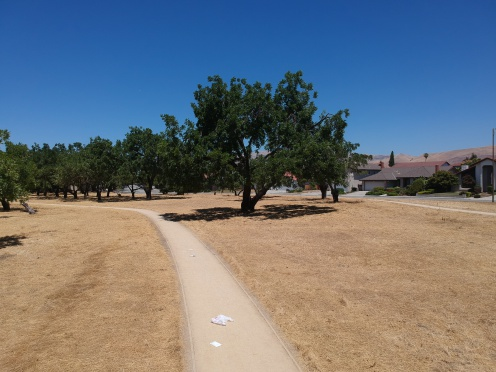plastic bag: (207, 311, 236, 326)
